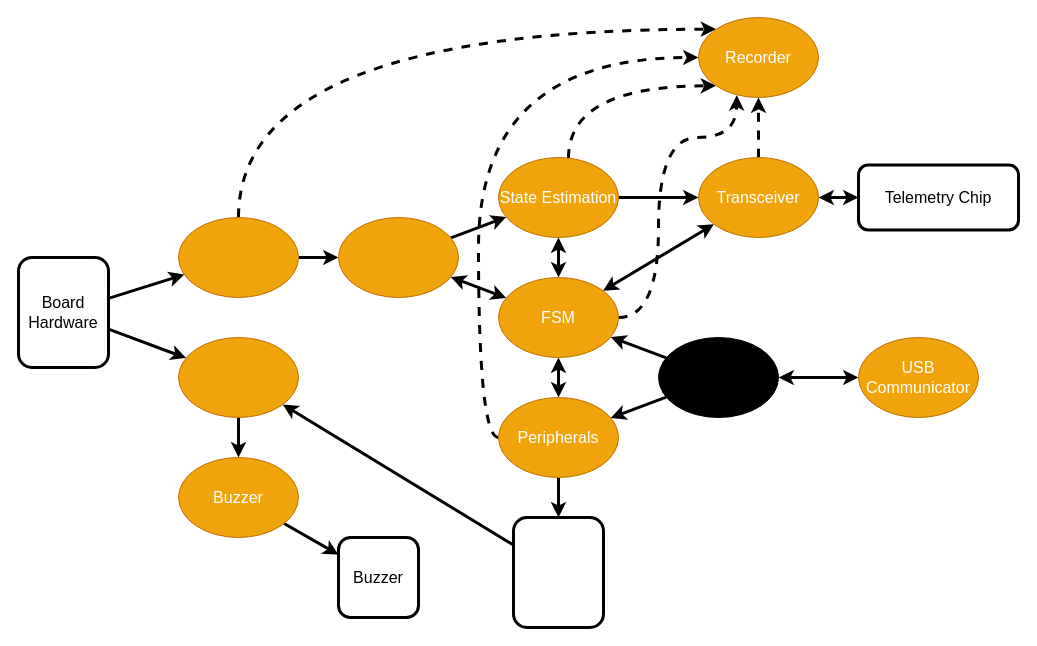
Image size: 1037x646. Some labels were removed from this diagram. Here are the shapes that lost their labels. From the top down, the centre of each, then its label:
(x=238, y=257): Sensor Read
(x=398, y=257): Preprocessing
(x=238, y=377): Health Monitor
(x=718, y=377): Settings
(x=558, y=572): Servo / Pyro / I/O / UART
